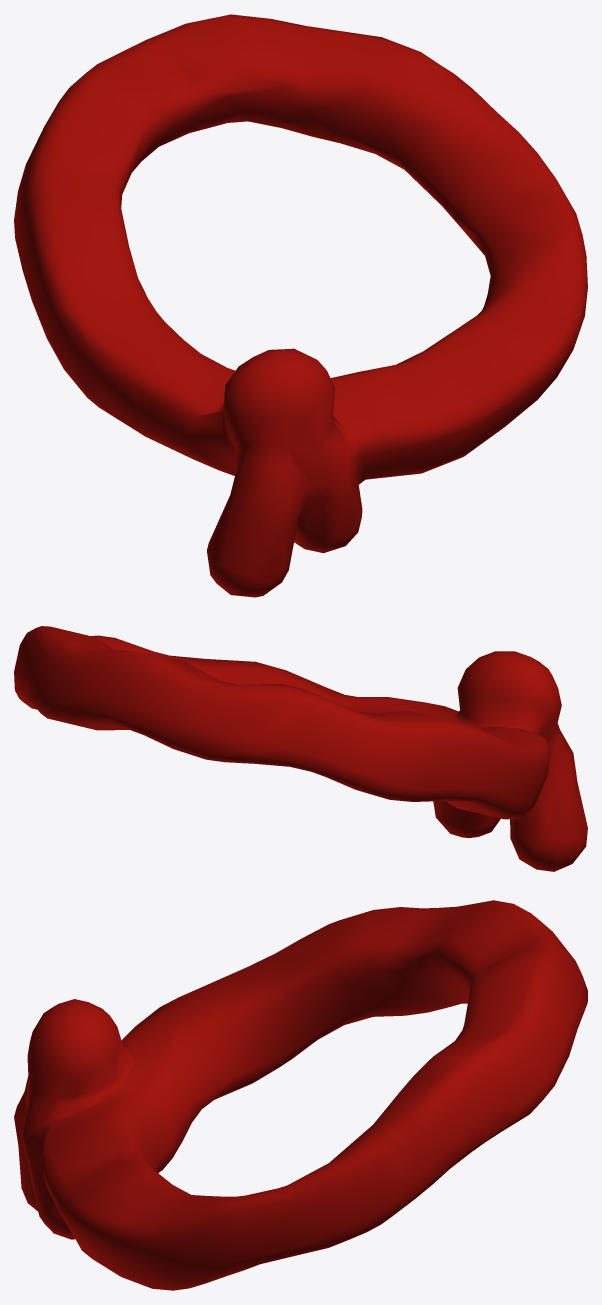
File: khando.glb
3 views of the same model, one above another, from view 1: azimuth 30°, elevation 25°; view 2: azimuth 150°, elevation 25°; view 3: azimuth 270°, elevation 25° (orthographic). The views are drawn at different scales.
Parts seen in each view (by area): view 1: Khan_Do; view 2: Khan_Do; view 3: Khan_Do.
Part boxes in pixels (x1=…): Khan_Do: x1=14, y1=14, x2=587, y2=597; Khan_Do: x1=14, y1=626, x2=587, y2=871; Khan_Do: x1=14, y1=900, x2=587, y2=1290.
Size of the model in its own units: 0.2762 by 0.1854 by 0.2694.
